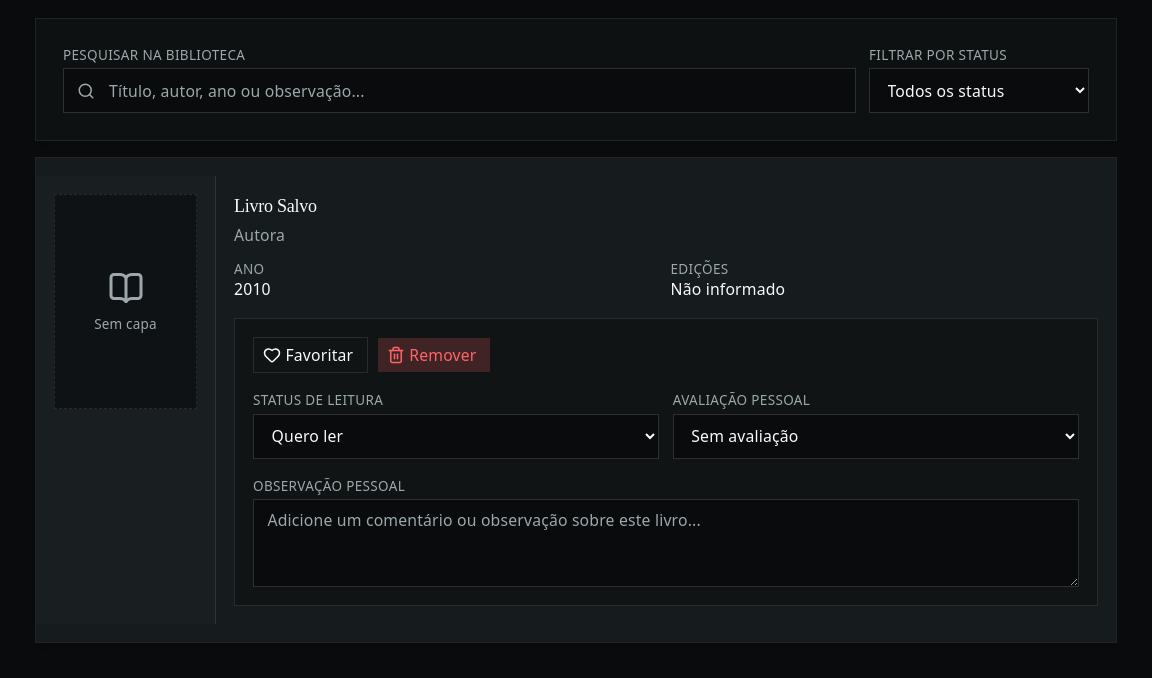
it: Biblioteca pessoal › remove livro e persiste
The image size is (1152, 678).
(page scrolled)
Click the button "Remover": (434, 355) [377,337,491,373]
(page scrolled)
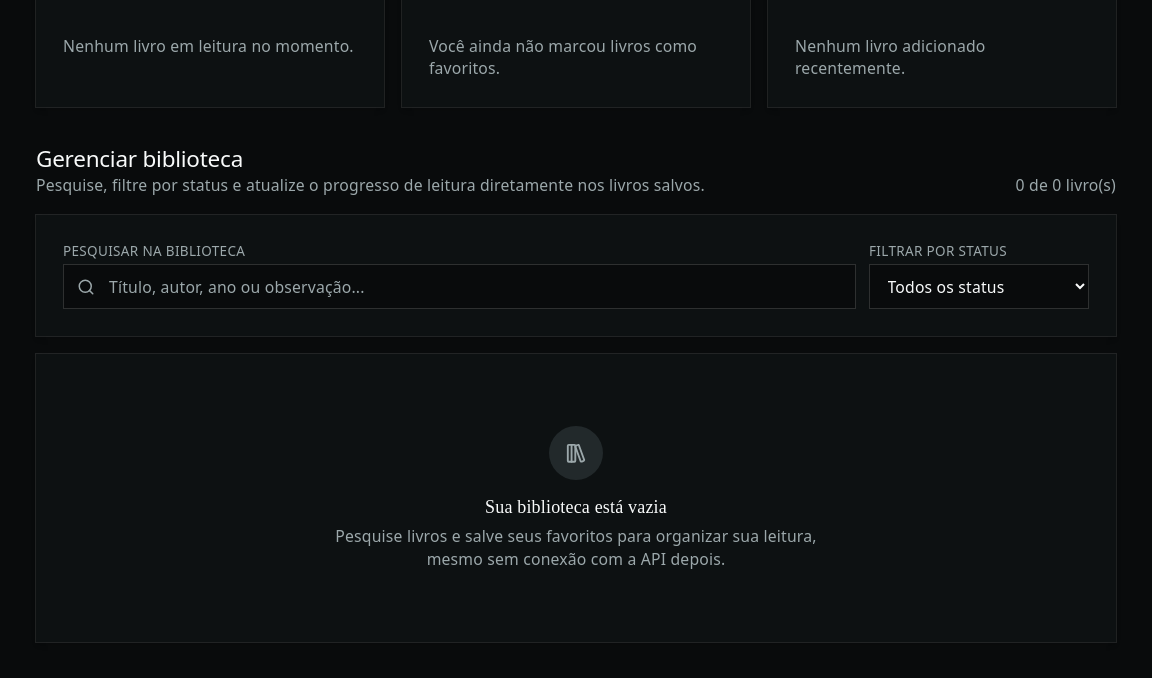
Expected: the text "Sua biblioteca está vazia" is shown, [485,497,667,517]
